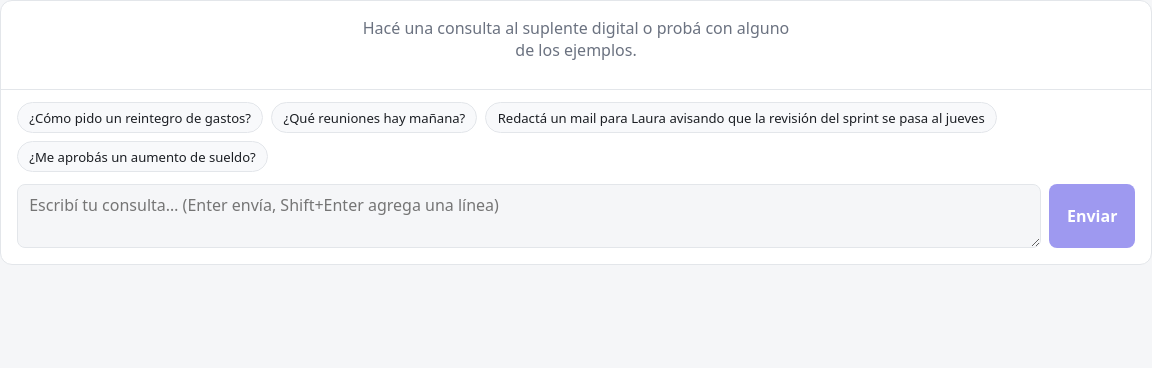
Test: Chat › FRONT-CHAT-06 renders the route badge and the escalation marker for escalated answers
Type "¿Me aprobás un aumento?" into the text box labelled "consulta". click: (529, 216)
box: [17,184,1041,248]
Then press Enter
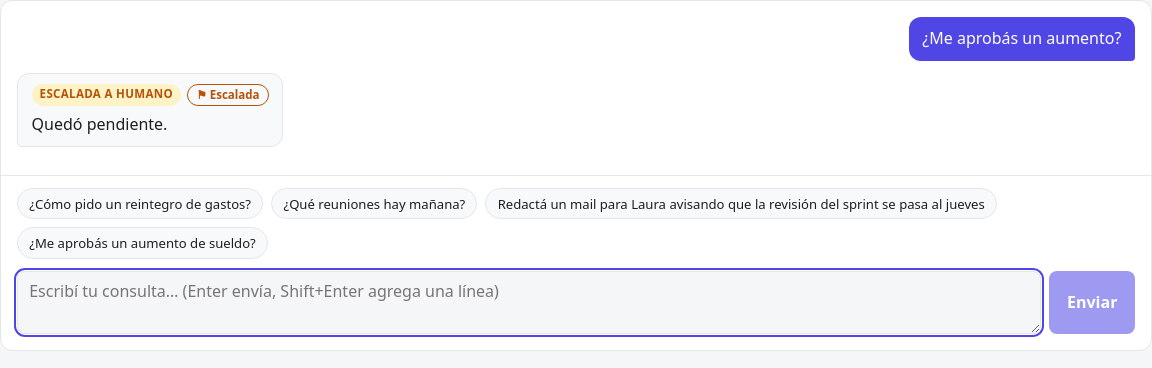
Check: the text "Escalada a humano" is shown, box [32,84,181,106]
Check: the text "⚑ Escalada" is shown, box [187,84,268,106]
